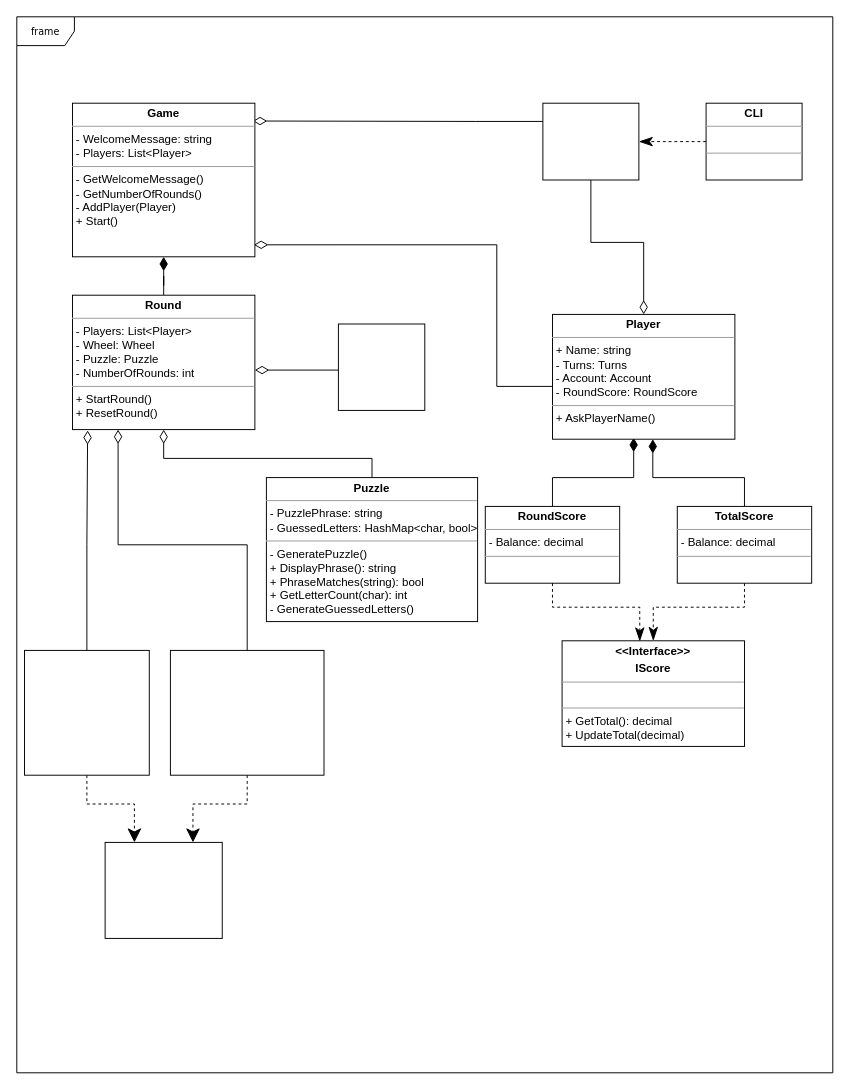
Some shapes in this 850 by 1090 pixel diagram are drawn without their labels. Here are the shapes that lost their labels. From the top down, the centre of each, then its label:
At [590,141]: "<<Interface>> UI + Display(string):".
At [381,366]: "Wheel - Pool: int [ ] + Spin(): int".
At [86,712]: "SpinTurn - Puzzle: Puzzle - SpinWheel() - Guess(char): int".
At [246,712]: "SolveTurn - Puzzle: Puzzle - SolvePuzzle(string): bool".
At [163,889]: "<<Interface>> ITurn + Play()".
